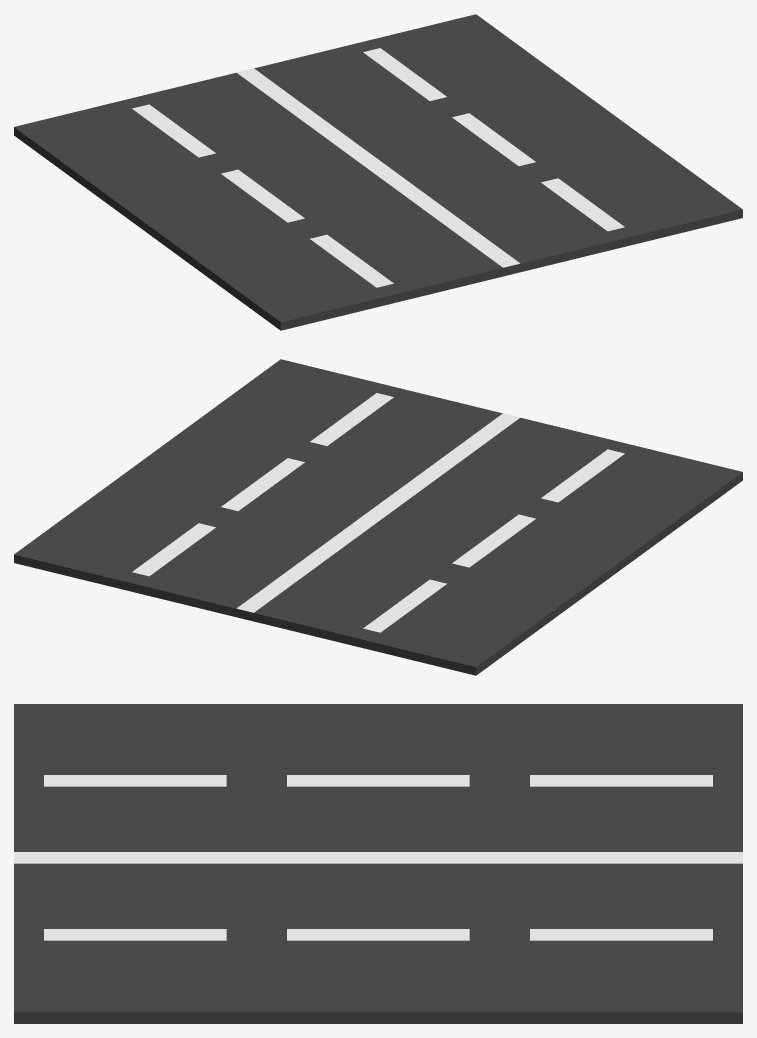
File: aft alp 2 road road.fbx
The picture shows the model from 3 angles, top to bottom: view 1: azimuth 30°, elevation 25°; view 2: azimuth 150°, elevation 25°; view 3: azimuth 270°, elevation 25°; orthographic projection. The views are drawn at different scales.
Visible parts, largest first — view 1: aft_alp_2_road_road; view 2: aft_alp_2_road_road; view 3: aft_alp_2_road_road.
Part boxes in pixels (box(x1,y1,x2,y2)): aft_alp_2_road_road: box(14, 14, 742, 330); aft_alp_2_road_road: box(14, 359, 742, 675); aft_alp_2_road_road: box(14, 704, 742, 1023).
Bounding box in the file's own units: 1000 × 18.35 × 1000.
